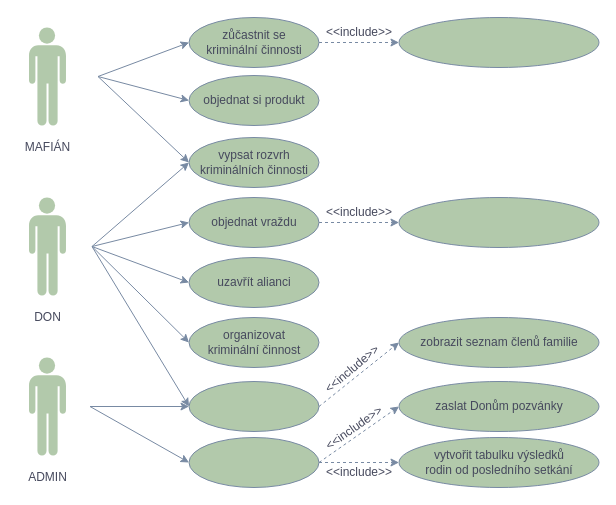
This 616x505 diagram has some shape labels left out. Here are the shapes that lost their labels. From the top down, the centre of each, then its label:
At pixel 498 42: "zobrazit na mapě místo, kde kriminální činnost bude probíhat".
At pixel 498 222: "zadat jméno oběti".
At pixel 253 406: "upravit seznam členů familie".
At pixel 253 462: "organizovat setkání Donů".
